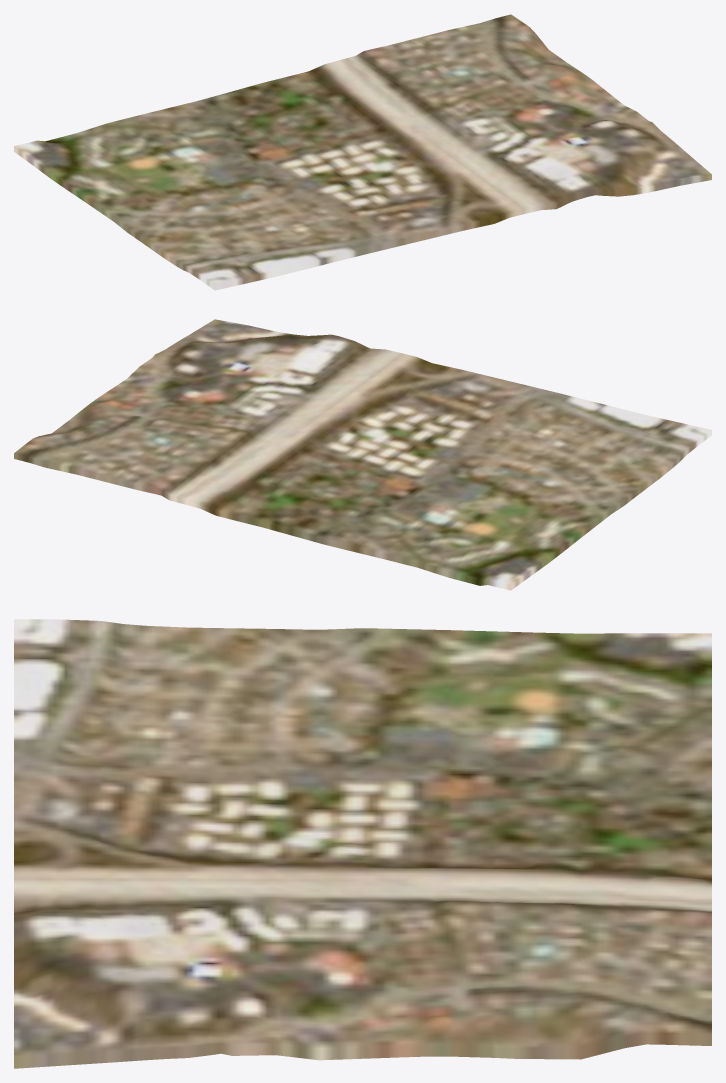
Rendered from terrain_r2_c7_lod2.glb.
3 renders of one model, top to bottom at view 1: azimuth 30°, elevation 25°; view 2: azimuth 150°, elevation 25°; view 3: azimuth 270°, elevation 25°, orthographic. The views are drawn at different scales.
Parts seen in each view (by area): view 1: terrain_r2_c7_lod2; view 2: terrain_r2_c7_lod2; view 3: terrain_r2_c7_lod2.
Part boxes in pixels (bbox=[...]): terrain_r2_c7_lod2: bbox=[14, 14, 711, 290]; terrain_r2_c7_lod2: bbox=[14, 319, 711, 590]; terrain_r2_c7_lod2: bbox=[14, 619, 711, 1068].
Size of the model in its own units: 1125 by 45.05 by 787.
Materials: 1 (1 with a texture image).
